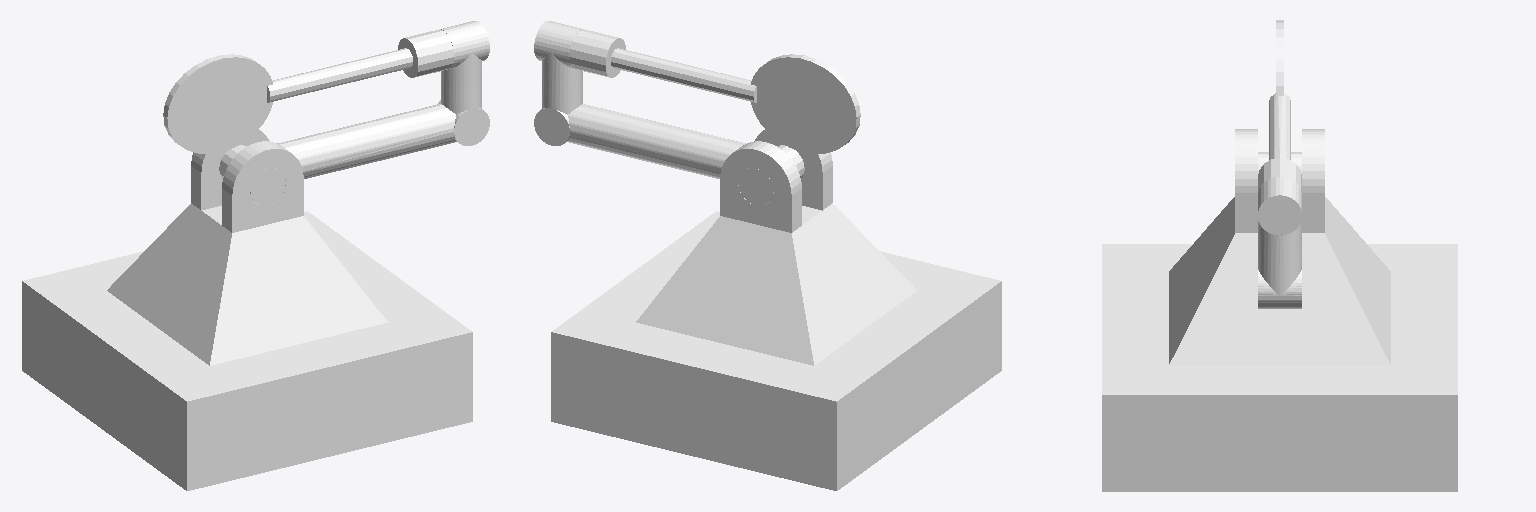
The robot description file, URDF, robot "MultifunctionalFightingRobot":
<?xml version="1.0" encoding="utf-8"?>
<!-- This URDF was automatically created by SolidWorks to URDF Exporter! Originally created by [author] ([email redacted]) 
     Commit Version: 1.5.1-0-g916b5db  Build Version: 1.5.7152.31018
     For more information, please see http://wiki.ros.org/sw_urdf_exporter -->
<robot
  name="MultifunctionalFightingRobot">
  <link
    name="base">
    <inertial>
      <origin
        xyz="-2.0817E-17 -1.1102E-16 0.15883"
        rpy="0 0 0" />
      <mass
        value="187.5" />
      <inertia
        ixx="10.822"
        ixy="1.7577E-17"
        ixz="5.6025E-16"
        iyy="10.822"
        iyz="-1.2155E-16"
        izz="17.29" />
    </inertial>
    <visual>
      <origin
        xyz="0 0 0"
        rpy="0 0 0" />
      <geometry>
        <mesh
          filename="package://MultifunctionalFightingRobot/meshes/base.STL" />
      </geometry>
      <material
        name="">
        <color
          rgba="1 1 1 1" />
      </material>
    </visual>
    <collision>
      <origin
        xyz="0 0 0"
        rpy="0 0 0" />
      <geometry>
        <mesh
          filename="package://MultifunctionalFightingRobot/meshes/base.STL" />
      </geometry>
    </collision>
  </link>
  <link
    name="Link1">
    <inertial>
      <origin
        xyz="-7.63278329429795E-17 1.11022302462516E-16 -0.0119671699979421"
        rpy="0 0 0" />
      <mass
        value="2.78539816339745" />
      <inertia
        ixx="0.0102841692489736"
        ixy="-2.11238723272592E-19"
        ixz="-1.91978189653409E-19"
        iyy="0.0198066615964629"
        iyz="2.56073642451006E-18"
        izz="0.0106830749155716" />
    </inertial>
    <visual>
      <origin
        xyz="0 0 0"
        rpy="0 0 0" />
      <geometry>
        <mesh
          filename="package://MultifunctionalFightingRobot/meshes/Link1.STL" />
      </geometry>
      <material
        name="">
        <color
          rgba="1 1 1 1" />
      </material>
    </visual>
    <collision>
      <origin
        xyz="0 0 0"
        rpy="0 0 0" />
      <geometry>
        <mesh
          filename="package://MultifunctionalFightingRobot/meshes/Link1.STL" />
      </geometry>
    </collision>
  </link>
  <joint
    name="Joint1"
    type="revolute">
    <origin
      xyz="0 0 0.6"
      rpy="0 0 0" />
    <parent
      link="base" />
    <child
      link="Link1" />
    <axis
      xyz="0 0 1" />
    <limit
      lower="-3.14"
      upper="3.14"
      effort="10"
      velocity="1" />
  </joint>
  <link
    name="Link2">
    <inertial>
      <origin
        xyz="0.26319524312101 -1.96851218658978E-08 0"
        rpy="0 0 0" />
      <mass
        value="6.40192161969389" />
      <inertia
        ixx="0.0124757254718562"
        ixy="2.13310786920436E-08"
        ixz="5.17006033421851E-18"
        iyy="0.303012195518238"
        iyz="-3.02199834695987E-07"
        izz="0.298705824006169" />
    </inertial>
    <visual>
      <origin
        xyz="0 0 0"
        rpy="0 0 0" />
      <geometry>
        <mesh
          filename="package://MultifunctionalFightingRobot/meshes/Link2.STL" />
      </geometry>
      <material
        name="">
        <color
          rgba="1 1 1 1" />
      </material>
    </visual>
    <collision>
      <origin
        xyz="0 0 0"
        rpy="0 0 0" />
      <geometry>
        <mesh
          filename="package://MultifunctionalFightingRobot/meshes/Link2.STL" />
      </geometry>
    </collision>
  </link>
  <joint
    name="Joint2"
    type="revolute">
    <origin
      xyz="0 0 0"
      rpy="1.5708 0 0" />
    <parent
      link="Link1" />
    <child
      link="Link2" />
    <axis
      xyz="0 0 1" />
    <limit
      lower="-3.14"
      upper="3.14"
      effort="10"
      velocity="1" />
  </joint>
  <link
    name="Link3">
    <inertial>
      <origin
        xyz="-3.78496314179522E-07 0.0257838144662665 3.16988706394739E-08"
        rpy="0 0 0" />
      <mass
        value="1.23746950027187" />
      <inertia
        ixx="0.00298712217690253"
        ixy="-6.86108403631657E-11"
        ixz="-6.67330548447687E-08"
        iyy="0.00173824210730817"
        iyz="-7.88426154937284E-19"
        izz="0.00287903519839156" />
    </inertial>
    <visual>
      <origin
        xyz="0 0 0"
        rpy="0 0 0" />
      <geometry>
        <mesh
          filename="package://MultifunctionalFightingRobot/meshes/Link3.STL" />
      </geometry>
      <material
        name="">
        <color
          rgba="1 1 1 1" />
      </material>
    </visual>
    <collision>
      <origin
        xyz="0 0 0"
        rpy="0 0 0" />
      <geometry>
        <mesh
          filename="package://MultifunctionalFightingRobot/meshes/Link3.STL" />
      </geometry>
    </collision>
  </link>
  <joint
    name="Joint3"
    type="revolute">
    <origin
      xyz="0.6 0 0"
      rpy="0 0 0" />
    <parent
      link="Link2" />
    <child
      link="Link3" />
    <axis
      xyz="0 0 1" />
    <limit
      lower="-3.14"
      upper="3.14"
      effort="10"
      velocity="1" />
  </joint>
  <link
    name="Link4">
    <inertial>
      <origin
        xyz="-3.78496314290544E-07 -3.16988708615185E-08 0.0257838144662664"
        rpy="0 0 0" />
      <mass
        value="1.23746950027187" />
      <inertia
        ixx="0.00298712217690252"
        ixy="6.67330548458465E-08"
        ixz="-6.86108377358554E-11"
        iyy="0.00287903519839155"
        iyz="3.49461930073097E-19"
        izz="0.00173824210730817" />
    </inertial>
    <visual>
      <origin
        xyz="0 0 0"
        rpy="0 0 0" />
      <geometry>
        <mesh
          filename="package://MultifunctionalFightingRobot/meshes/Link4.STL" />
      </geometry>
      <material
        name="">
        <color
          rgba="1 1 1 1" />
      </material>
    </visual>
    <collision>
      <origin
        xyz="0 0 0"
        rpy="0 0 0" />
      <geometry>
        <mesh
          filename="package://MultifunctionalFightingRobot/meshes/Link4.STL" />
      </geometry>
    </collision>
  </link>
  <joint
    name="Joint4"
    type="revolute">
    <origin
      xyz="0 0.2 0"
      rpy="1.5708 1.5708 0" />
    <parent
      link="Link3" />
    <child
      link="Link4" />
    <axis
      xyz="0 0 1" />
    <limit
      lower="-3.14"
      upper="3.14"
      effort="10"
      velocity="1" />
  </joint>
  <link
    name="Link5">
    <inertial>
      <origin
        xyz="-1.11022302462516E-16 1.2508736491057E-08 0.260817127900269"
        rpy="0 0 0" />
      <mass
        value="2.73036408745062" />
      <inertia
        ixx="0.186608222956886"
        ixy="3.50811897225134E-11"
        ixz="1.90256535057681E-18"
        iyy="0.182048874612407"
        iyz="1.6099119905157E-09"
        izz="0.00586386259664019" />
    </inertial>
    <visual>
      <origin
        xyz="0 0 0"
        rpy="0 0 0" />
      <geometry>
        <mesh
          filename="package://MultifunctionalFightingRobot/meshes/Link5.STL" />
      </geometry>
      <material
        name="">
        <color
          rgba="1 1 1 1" />
      </material>
    </visual>
    <collision>
      <origin
        xyz="0 0 0"
        rpy="0 0 0" />
      <geometry>
        <mesh
          filename="package://MultifunctionalFightingRobot/meshes/Link5.STL" />
      </geometry>
    </collision>
  </link>
  <joint
    name="Joint5"
    type="revolute">
    <origin
      xyz="0 -0.68 0"
      rpy="-1.5708 0 0" />
    <parent
      link="Link4" />
    <child
      link="Link5" />
    <axis
      xyz="0 0 1" />
    <limit
      lower="-3.14"
      upper="3.14"
      effort="10"
      velocity="1" />
  </joint>
</robot>

--- Render facts (derived) ---
3 views of the same robot in one strip: view 1: azimuth 30°, elevation 25°; view 2: azimuth 150°, elevation 25°; view 3: azimuth 270°, elevation 25° (orthographic).
Model MultifunctionalFightingRobot with 6 links and 5 joints (5 revolute), rooted at base, posed every joint at zero.
Links seen in each view (by area): view 1: base, Link5, Link2, Link1, Link4, Link3; view 2: base, Link5, Link2, Link1, Link4, Link3; view 3: base, Link1, Link4, Link5, Link3.
Link boxes in pixels (x1=…): base: x1=22, y1=203, x2=472, y2=490; Link5: x1=163, y1=29, x2=453, y2=153; Link2: x1=219, y1=101, x2=489, y2=205; Link1: x1=191, y1=130, x2=303, y2=232; Link4: x1=441, y1=21, x2=489, y2=90; Link3: x1=438, y1=84, x2=489, y2=145; base: x1=551, y1=203, x2=1001, y2=490; Link5: x1=570, y1=29, x2=860, y2=153; Link2: x1=535, y1=101, x2=804, y2=205; Link1: x1=720, y1=130, x2=832, y2=232; Link4: x1=534, y1=21, x2=582, y2=90; Link3: x1=534, y1=84, x2=586, y2=145; base: x1=1102, y1=197, x2=1457, y2=491; Link1: x1=1235, y1=129, x2=1324, y2=232; Link4: x1=1258, y1=177, x2=1301, y2=255; Link5: x1=1258, y1=20, x2=1301, y2=191; Link3: x1=1258, y1=249, x2=1301, y2=308.
Bounding box of the posed robot: 1.05 × 0.8 × 0.9249 m (x, y, z).
6 mesh visuals loaded from 6 distinct referenced files (6 binary STL).